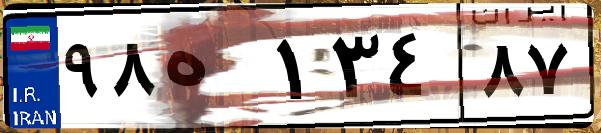1: (270, 28, 330, 110)
3: (330, 28, 385, 110)
4: (385, 28, 445, 110)
7: (525, 38, 570, 115)
8: (475, 38, 525, 113), (110, 28, 158, 98)
9: (57, 26, 110, 100)
ه: (158, 20, 270, 120)
